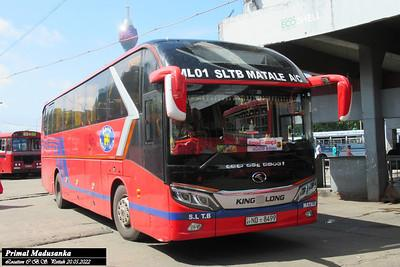bus: (37, 37, 334, 245), (1, 127, 39, 178)
